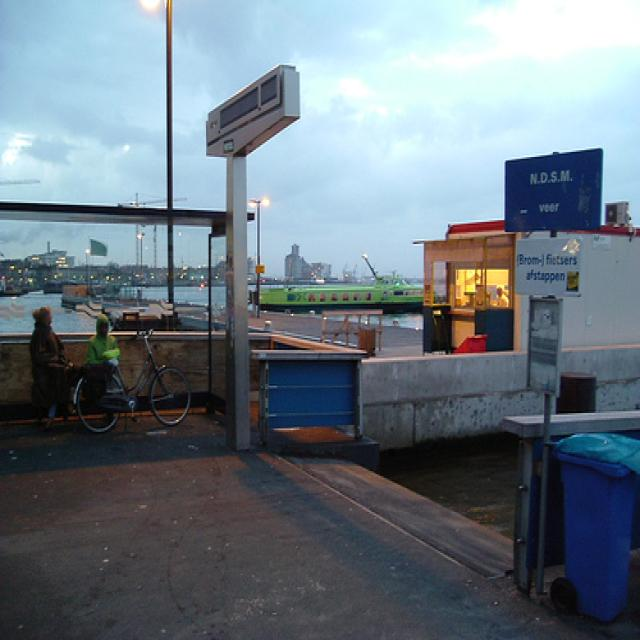bicycle: (73, 331, 193, 435)
boat: (256, 259, 426, 312)
person: (29, 306, 70, 426), (87, 315, 120, 366)
